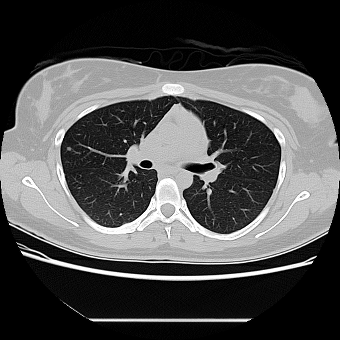nodule: (65, 145, 71, 151)
